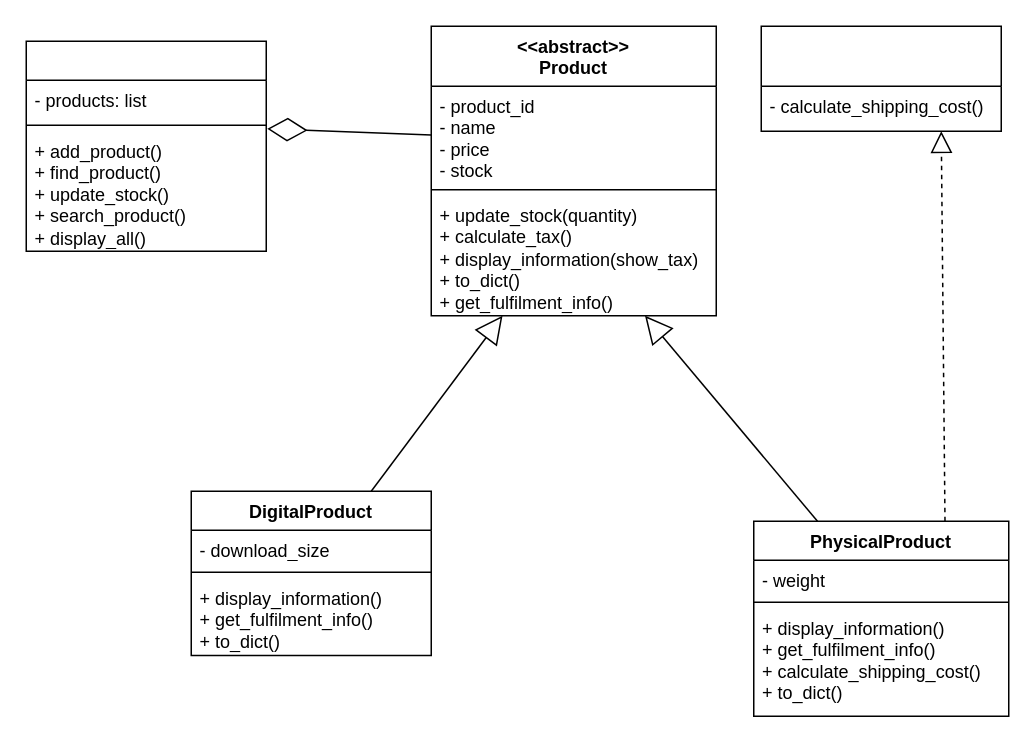
Some shapes in this 1035 by 747 pixel diagram are drawn without their labels. The box of each missing label's shape, as (x1, y1, x2, y2) in pixels:
<<interface>> CanBeShipped: (760, 25, 1001, 131)
Inventory: (25, 40, 266, 251)
